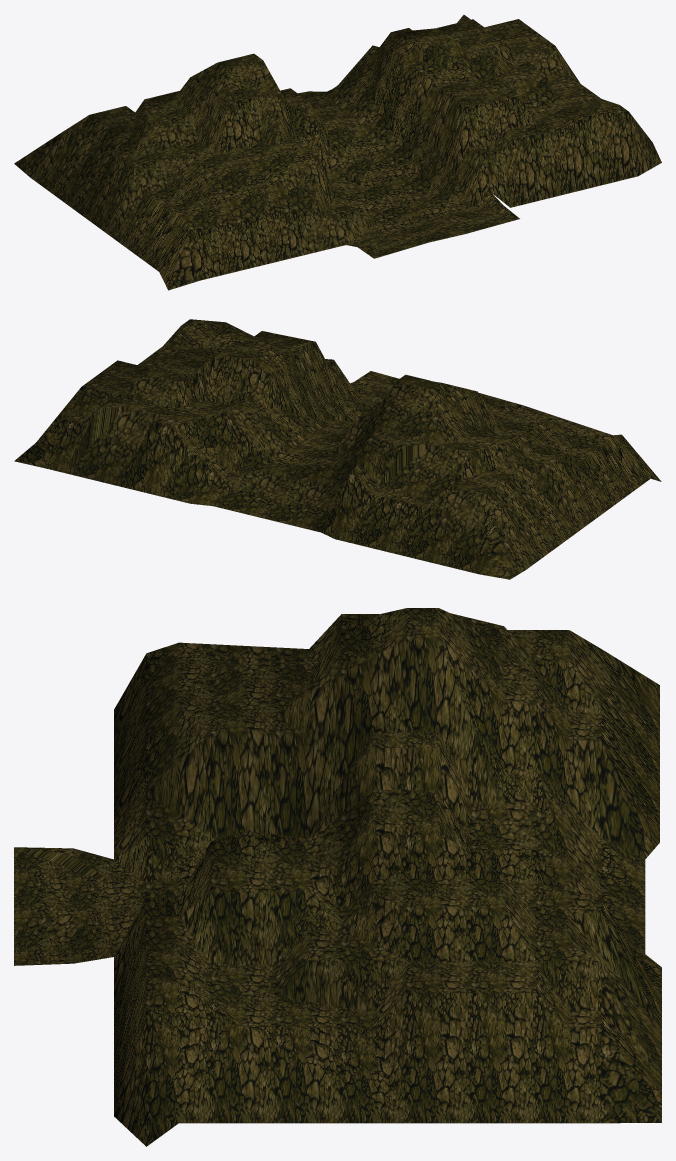
Rendered from DWARF_PALACE_FORGE_COAL.obj.
The picture shows the model from 3 angles, top to bottom: view 1: azimuth 30°, elevation 25°; view 2: azimuth 150°, elevation 25°; view 3: azimuth 270°, elevation 25°; orthographic projection. The views are drawn at different scales.
Parts seen in each view (by area): view 1: forge_coal; view 2: forge_coal; view 3: forge_coal.
Boxes of the visible parts, x1=… form: forge_coal: x1=14, y1=15, x2=661, y2=290; forge_coal: x1=14, y1=319, x2=661, y2=579; forge_coal: x1=14, y1=608, x2=661, y2=1146.
Bounding box in the file's own units: 1994 × 485 × 1258.
